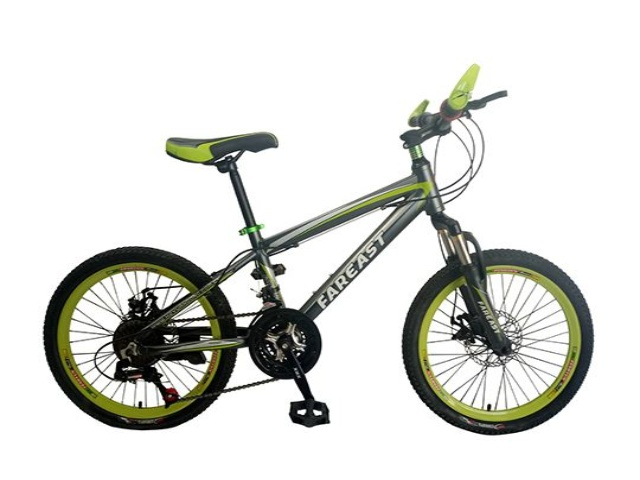bike: (38, 57, 602, 468)
